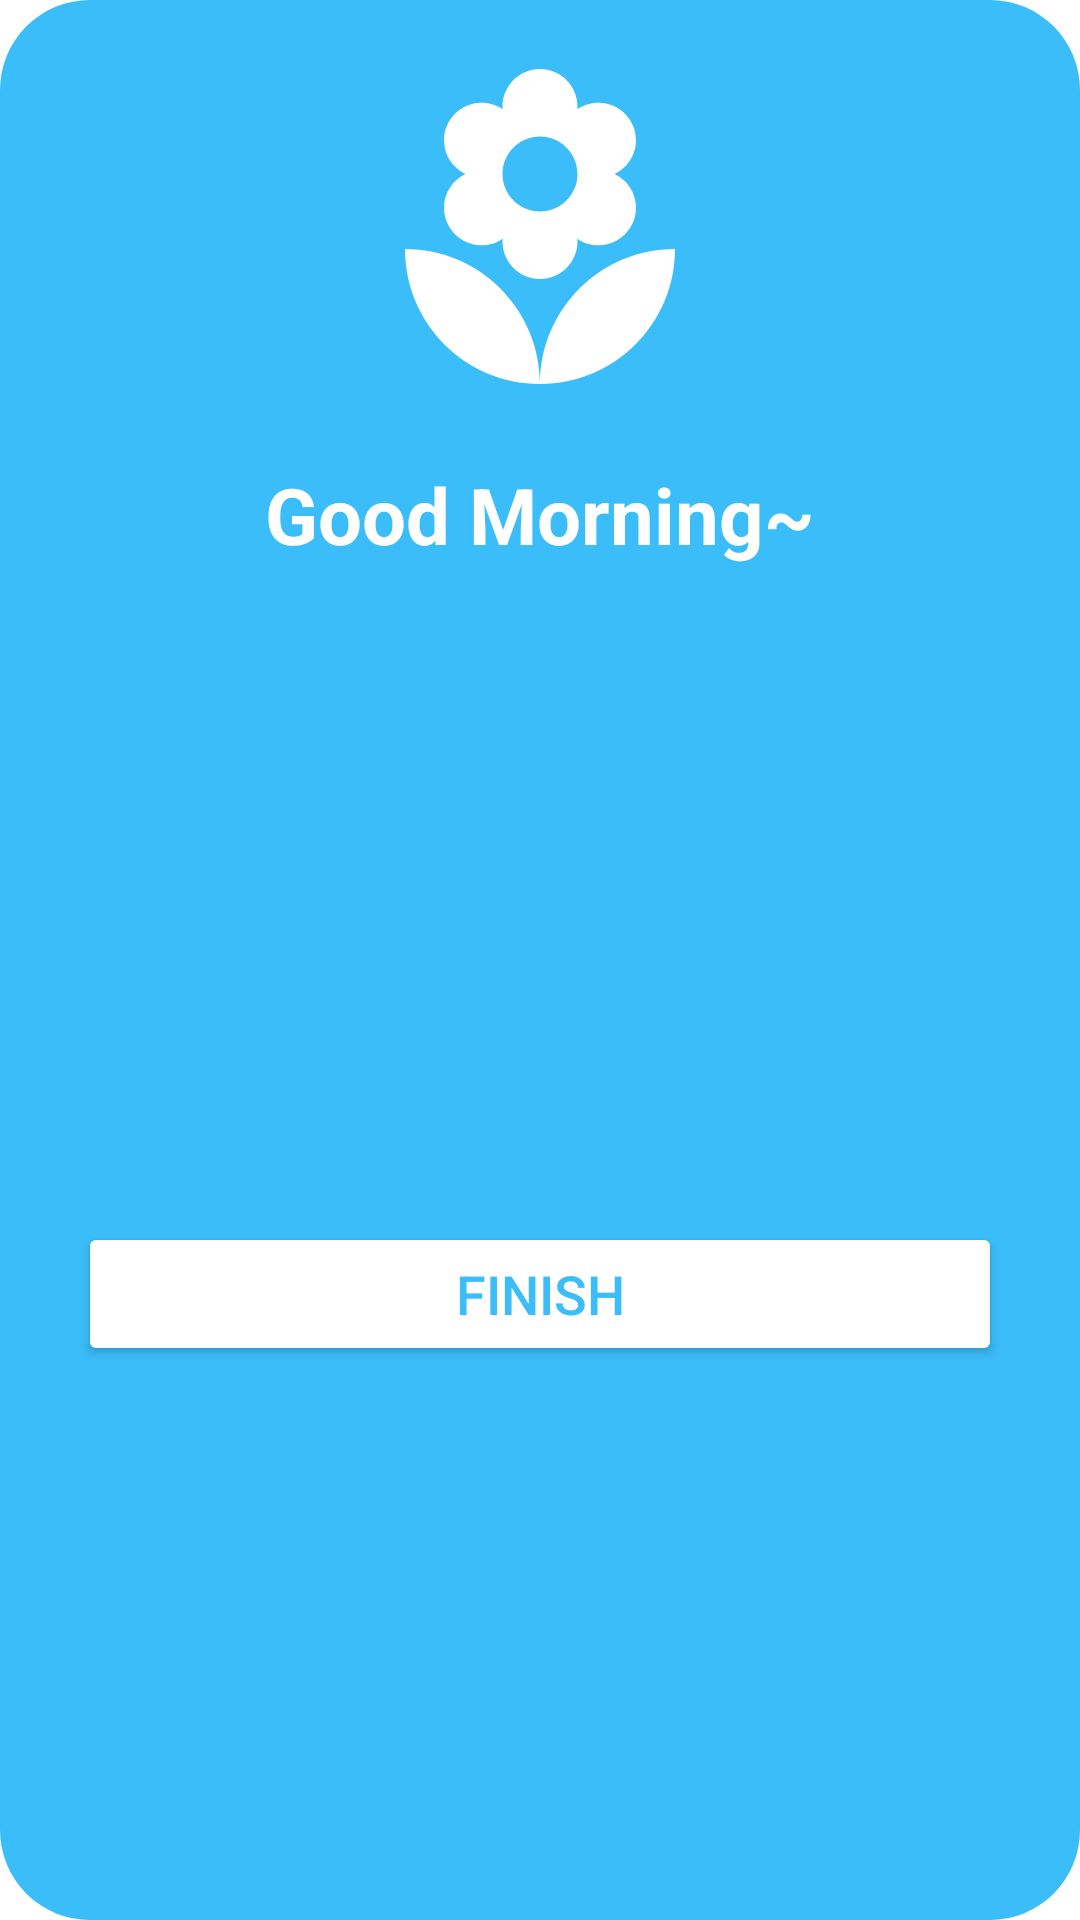

Icon click points for this 1080px×1920px phone screenshot, format point (x, y):
flower: point (540, 226)
